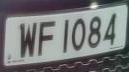0: (70, 14, 87, 57)
1: (59, 14, 72, 59)
4: (101, 11, 120, 46)
8: (86, 14, 104, 47)
F: (37, 18, 58, 60)
W: (18, 19, 39, 62)
